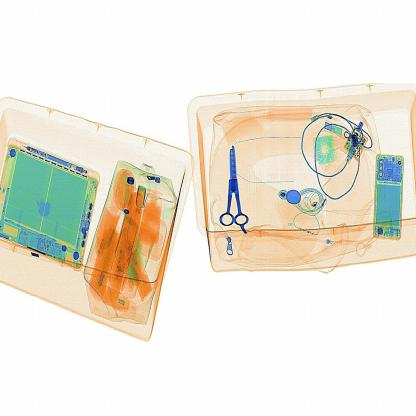gun: (214, 133, 253, 244)
